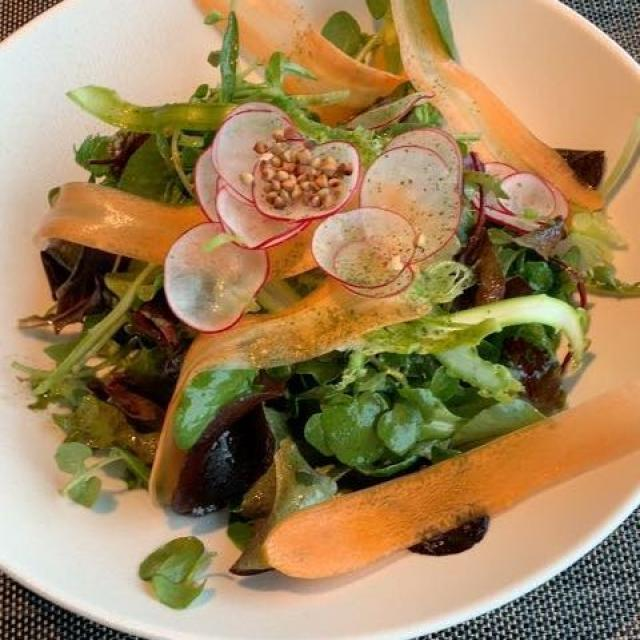nuts: (231, 113, 372, 227)
radish: (50, 15, 559, 363)
salad: (39, 18, 617, 555)
